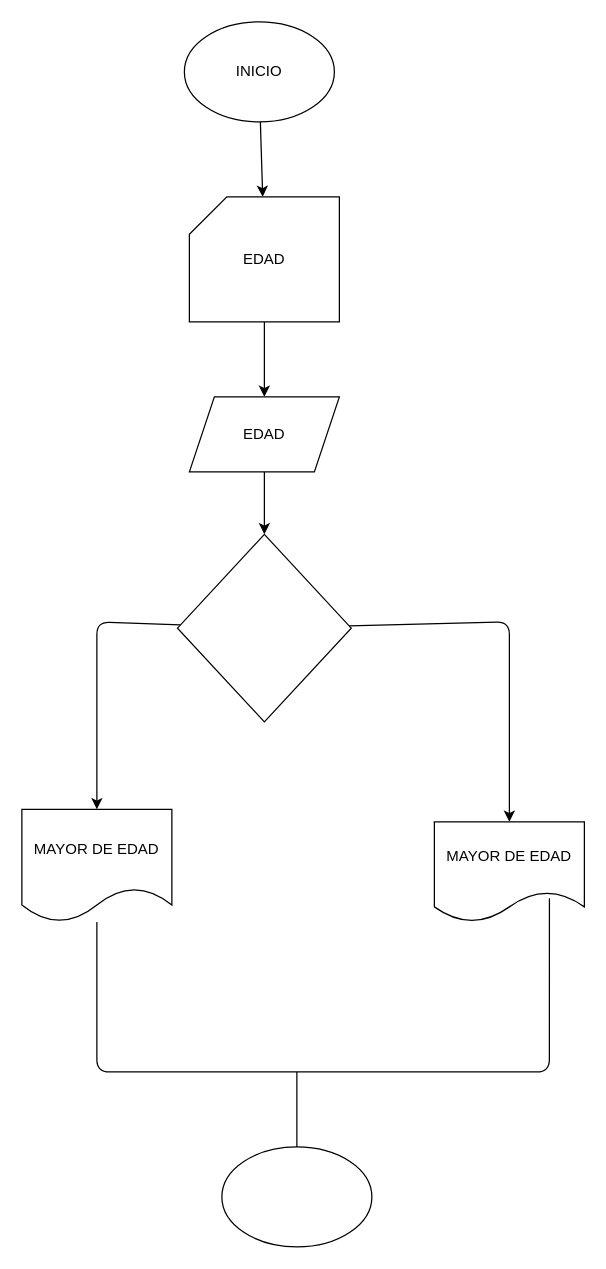
Some shapes in this 606 by 1269 pixel diagram are drawn without their labels. The shapes that lost their labels are listed below. From the top down, each one's centre as x and y in pixels, then its label:
the point at 263,627: EDAD >= 18
the point at 296,1196: FIN
